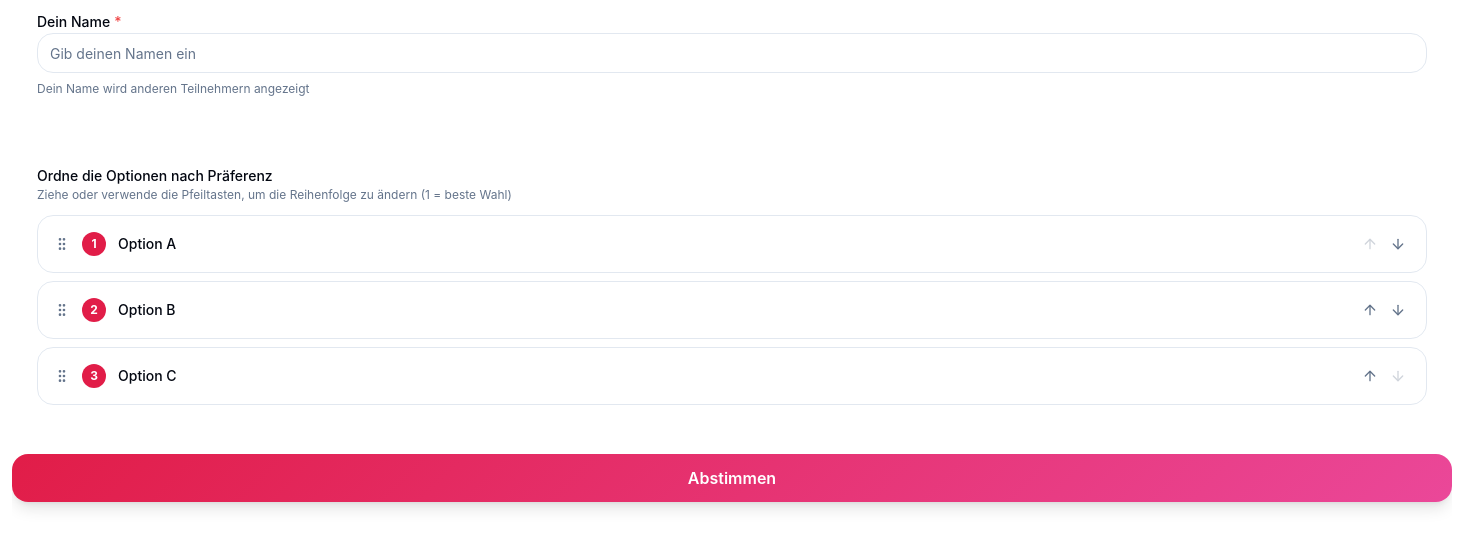
VotingForm › shows validation error when submitting ranked poll without reordering
Fill in name but don't reorder
Type "Test User" into the field with placeholder "Gib deinen Namen ein".
click(732, 53); type("Test User")  # box x1=37 y1=33 x2=1427 y2=73
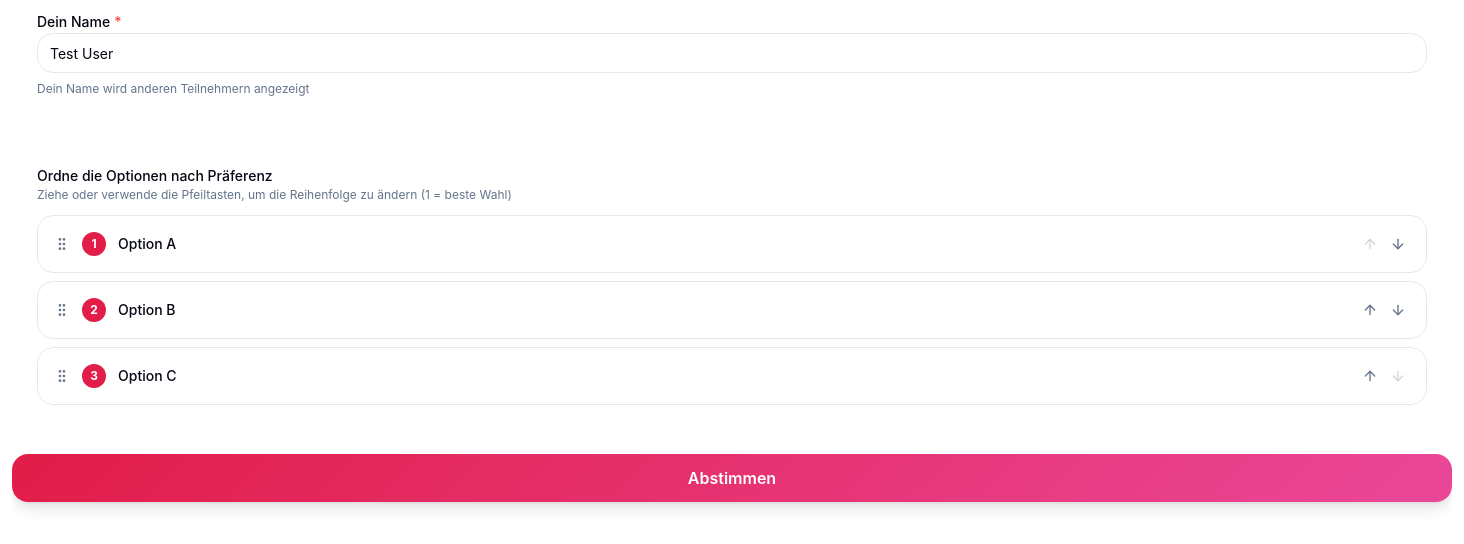
Click the button "Abstimmen".
click(732, 478)  # box x1=12 y1=454 x2=1452 y2=502
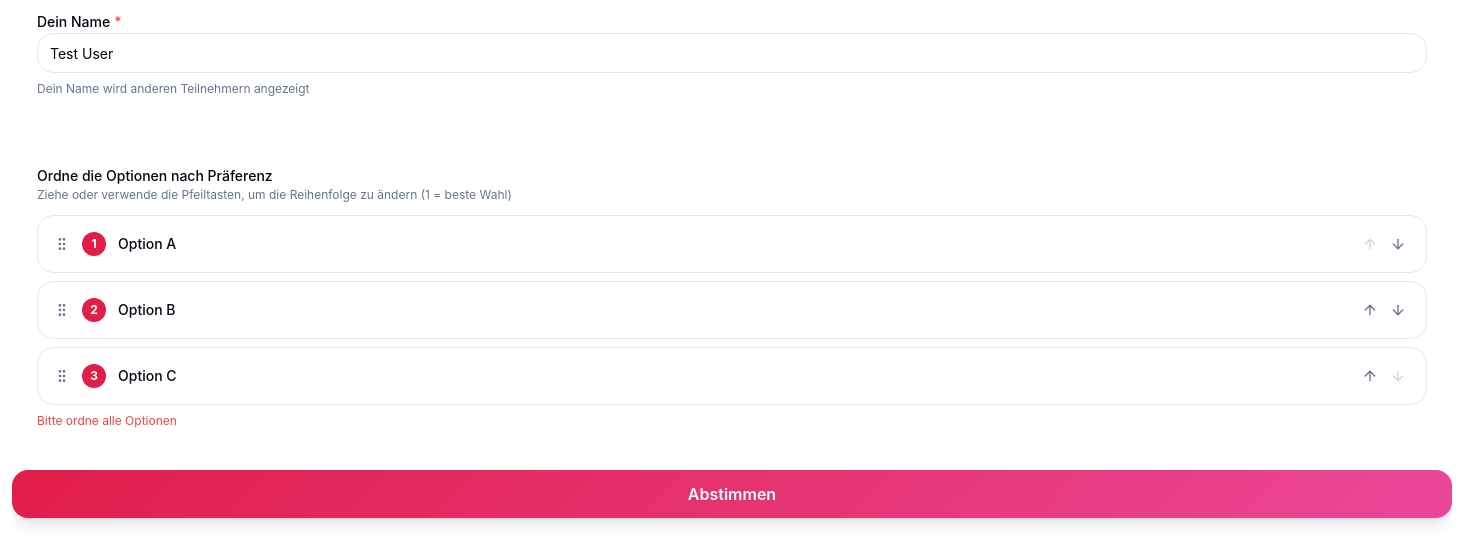
Expected: the text "Bitte ordne alle Optionen" is shown, x1=37 y1=413 x2=177 y2=428
